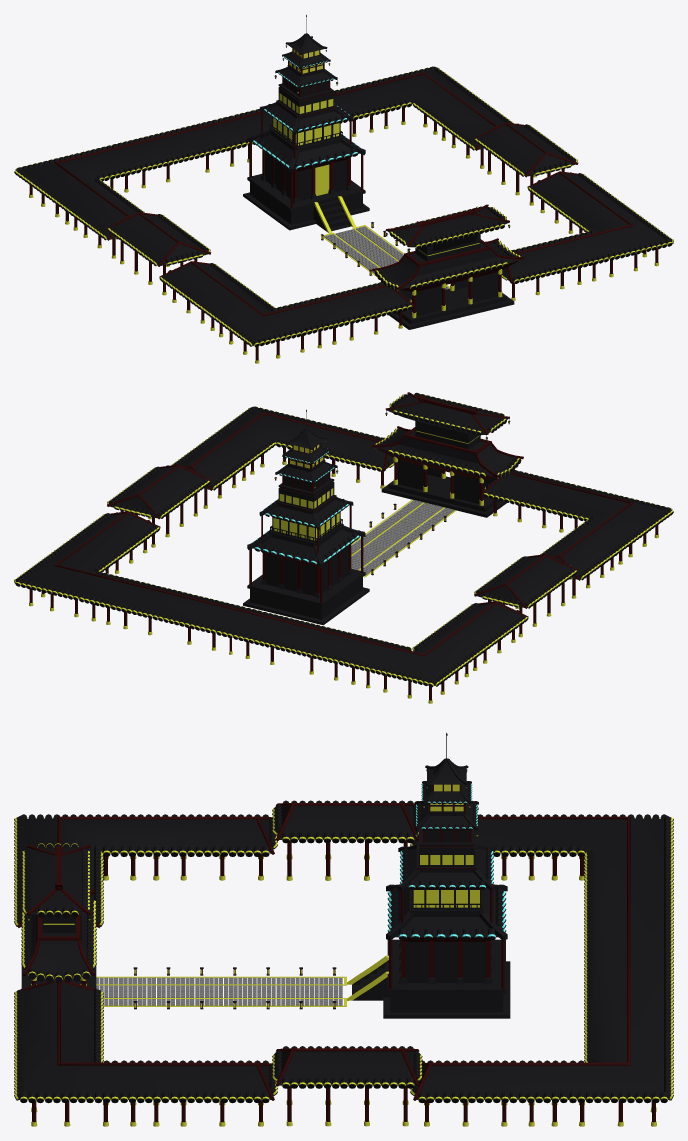
Rendered from Landmark.fbx.
3 renders of one model, top to bottom at view 1: azimuth 30°, elevation 25°; view 2: azimuth 150°, elevation 25°; view 3: azimuth 270°, elevation 25°, orthographic. The views are drawn at different scales.
Parts seen in each view (by area): view 1: Box025, Landmark, Cylinder004, Box026, Object004; view 2: Box025, Landmark, Cylinder004, Box026, Object004; view 3: Box025, Landmark, Box026, Cylinder004, Object004.
Part boxes in pixels (x1,y1,x2,y2): Box025: [14, 66, 673, 363]; Landmark: [243, 14, 369, 233]; Cylinder004: [372, 204, 523, 329]; Box026: [107, 122, 578, 295]; Object004: [323, 225, 449, 289]; Box025: [14, 406, 673, 703]; Landmark: [243, 409, 369, 625]; Cylinder004: [372, 392, 523, 517]; Box026: [107, 464, 578, 637]; Object004: [351, 499, 456, 577]; Box025: [14, 814, 673, 1126]; Landmark: [347, 732, 510, 1018]; Box026: [272, 800, 422, 1126]; Cylinder004: [21, 843, 96, 988]; Object004: [96, 976, 346, 1006].
Size of the model in its own units: 809 by 346 by 794.
